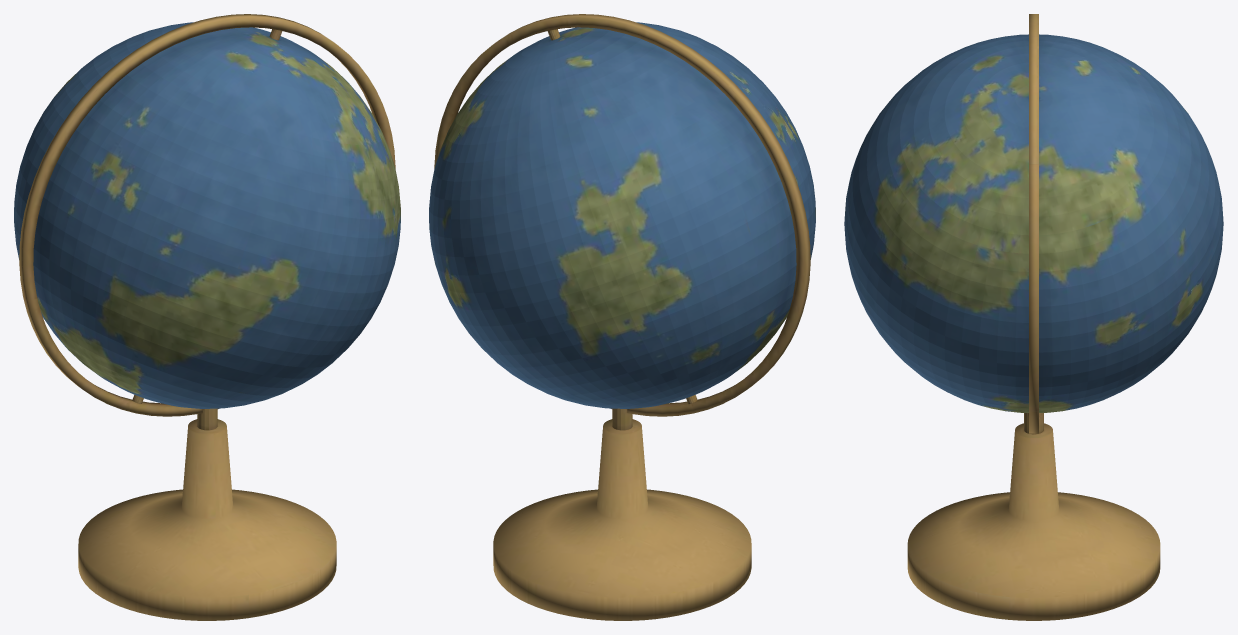
File: brass-stand.glb
3 views of the same model, side by side, from view 1: azimuth 30°, elevation 25°; view 2: azimuth 150°, elevation 25°; view 3: azimuth 270°, elevation 25° (orthographic). The views are drawn at different scales.
Parts seen in each view (by area): view 1: globe_map, brass; view 2: globe_map, brass; view 3: globe_map, brass.
Part boxes in pixels (left/top/right/bottom): globe_map: left=14, top=22, right=400, bottom=408; brass: left=19, top=14, right=395, bottom=620; globe_map: left=429, top=22, right=815, bottom=408; brass: left=434, top=14, right=810, bottom=620; globe_map: left=844, top=34, right=1223, bottom=412; brass: left=907, top=14, right=1160, bottom=620.
Size of the model in its own units: 0.3319 by 0.4659 by 0.3.
2 materials, 2 textured.
